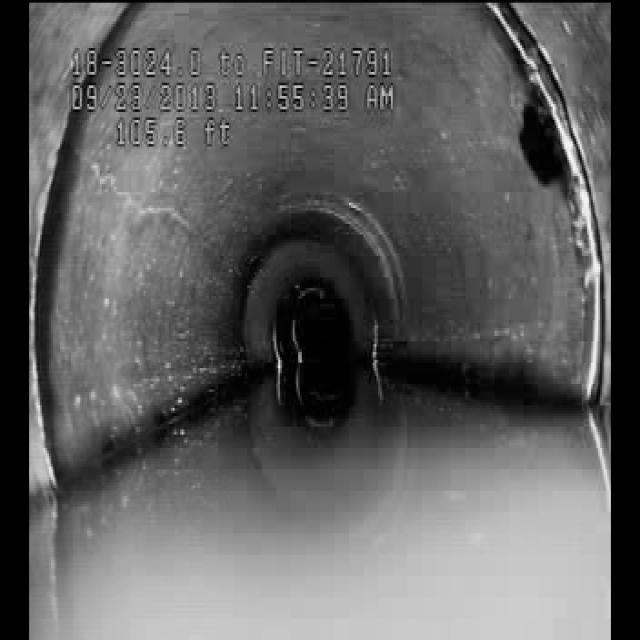Crack: (96, 155, 198, 243)
